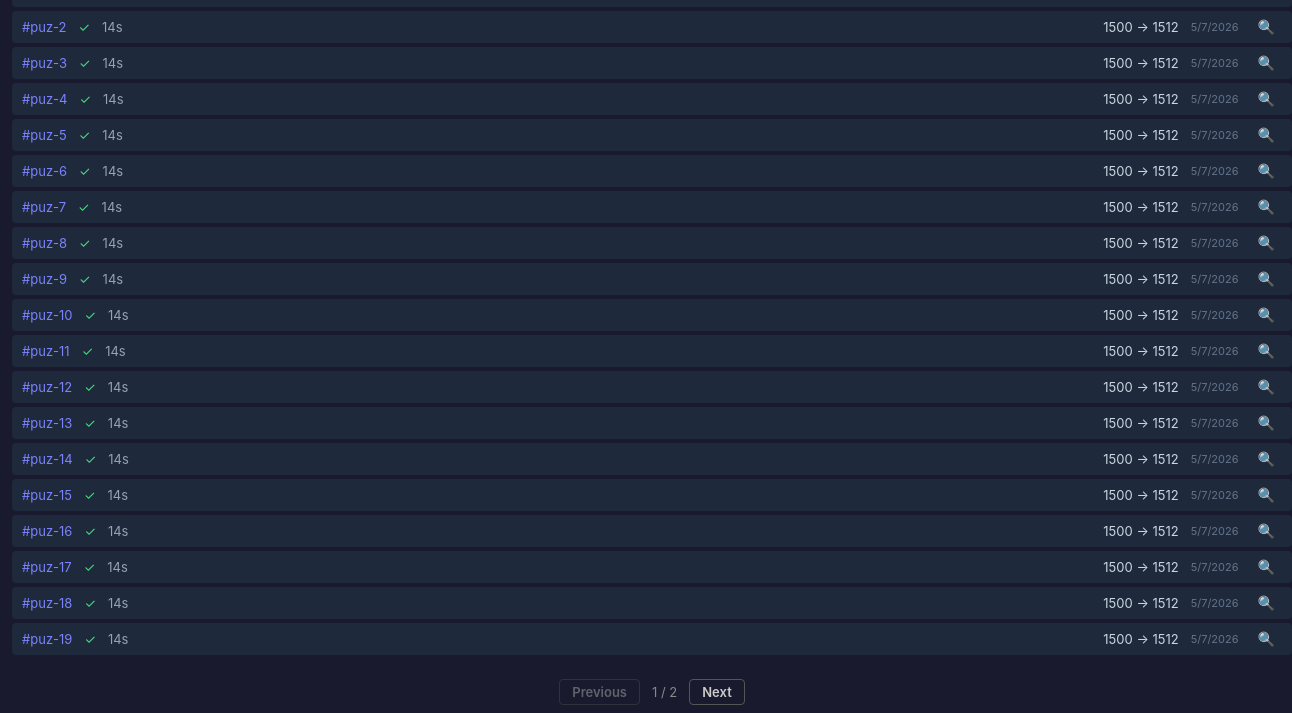
Test: <RecentAttempts> KS-2498 › пагинация: при > 20 попытках видим «1 / N» и работает кнопка Next
The image size is (1292, 713).
(page scrolled)
Expected: the text "1 / 2" is shown, [652,684,677,700]
Click the button "Next" at (717, 692), box [689,679,745,705]
(page scrolled)
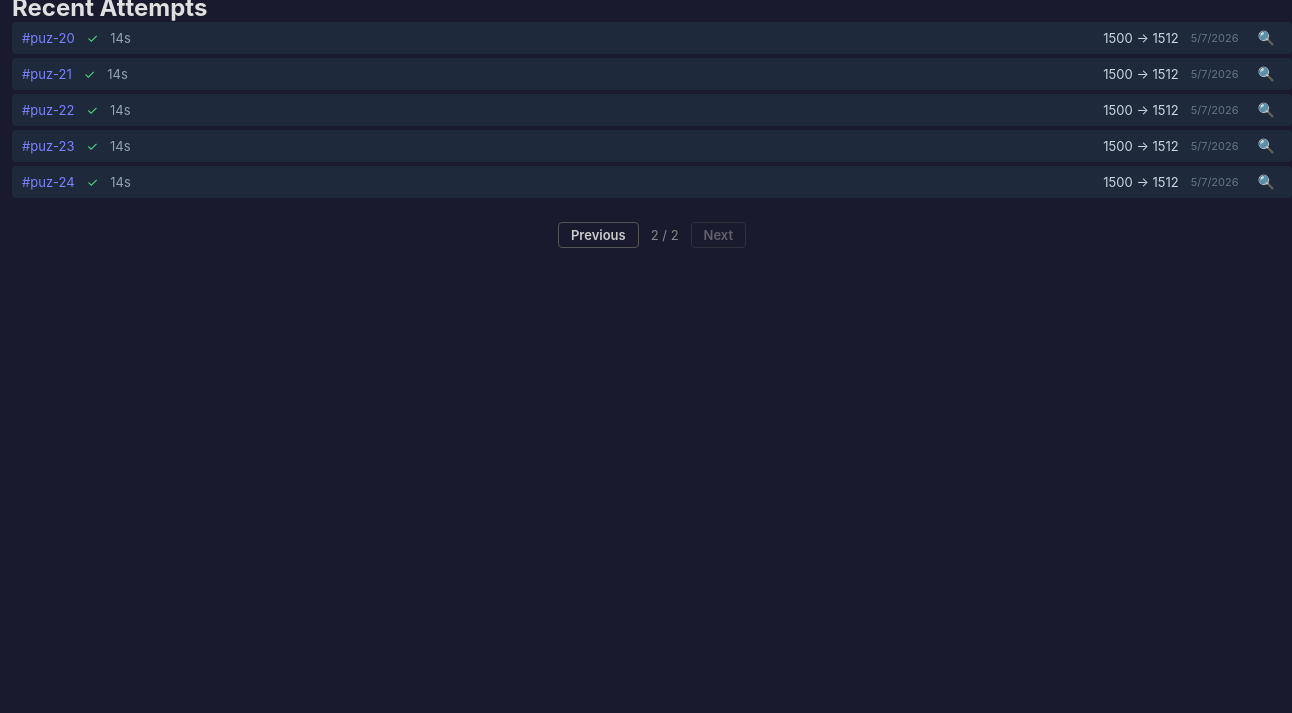
Expected: the text "2 / 2" is shown, [651,227,679,243]
Expected: the element with test id "recent-attempts-row-att-20" is shown, [12,22,1291,54]
